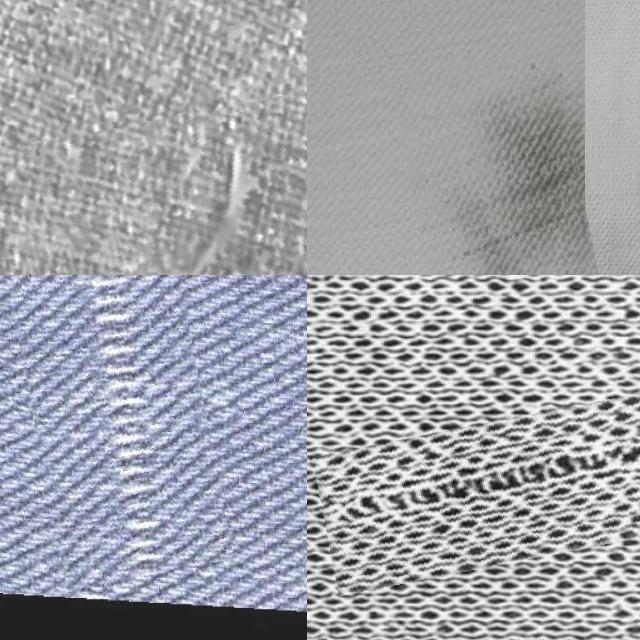Thread_other: (404, 54, 598, 275)
stains: (0, 275, 207, 586), (315, 403, 640, 579), (0, 106, 307, 275)
